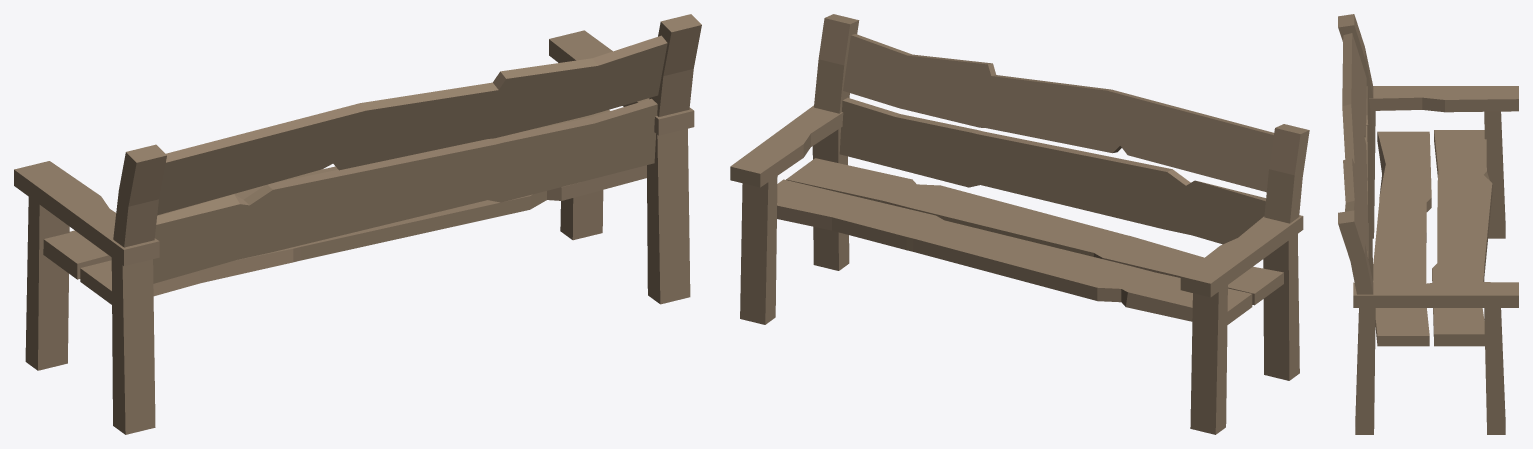
Rendered from bench.glb.
3 renders of one model, left to right at view 1: azimuth 30°, elevation 25°; view 2: azimuth 150°, elevation 25°; view 3: azimuth 270°, elevation 25°, orthographic. The views are drawn at different scales.
Parts seen in each view (by area): view 1: merged; view 2: merged; view 3: merged.
Boxes of the visible parts, <box> form: merged: <box>14,14,701,434</box>; merged: <box>730,14,1309,434</box>; merged: <box>1338,14,1518,434</box>.
Bounding box in the file's own units: 1.03 × 0.4895 × 0.3757.
